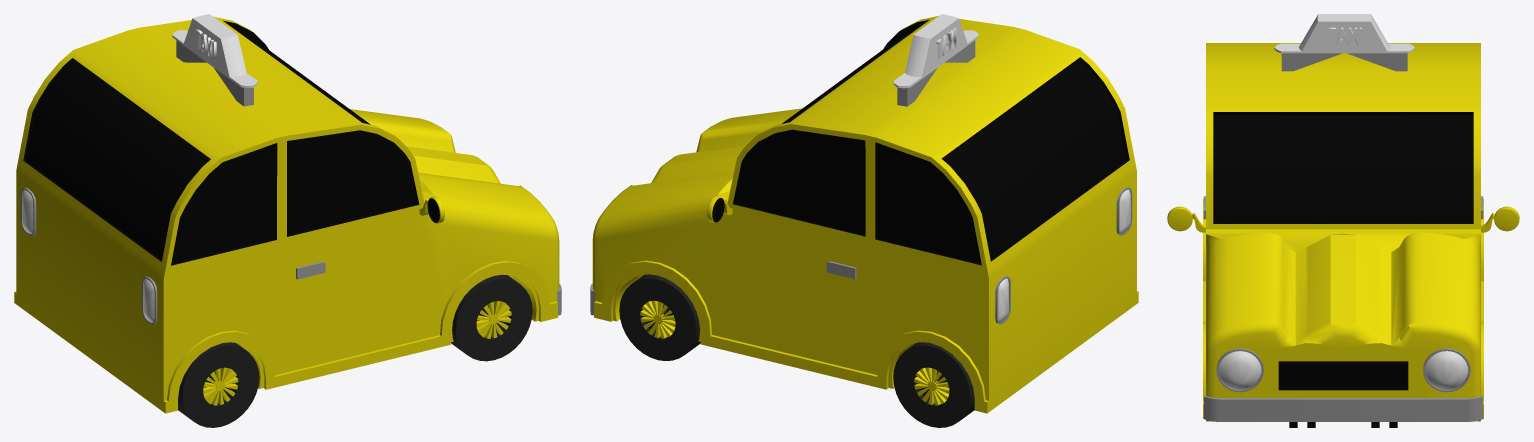
File: car4ltaxi.fbx
3 renders of one model, left to right at view 1: azimuth 30°, elevation 25°; view 2: azimuth 150°, elevation 25°; view 3: azimuth 270°, elevation 25°, orthographic. The views are drawn at different scales.
Parts seen in each view (by area): view 1: car4ltaxi, car4l_3, car4l_4; view 2: car4ltaxi, car4l_3, car4l_4; view 3: car4ltaxi.
Part boxes in pixels (x1,y1,x2,y2): car4ltaxi: [14, 14, 561, 413]; car4l_3: [451, 274, 532, 361]; car4l_4: [178, 342, 259, 427]; car4ltaxi: [590, 14, 1138, 413]; car4l_3: [619, 274, 700, 360]; car4l_4: [893, 342, 974, 427]; car4ltaxi: [1167, 14, 1519, 427].
Size of the model in its own units: 678 by 521 by 543.
